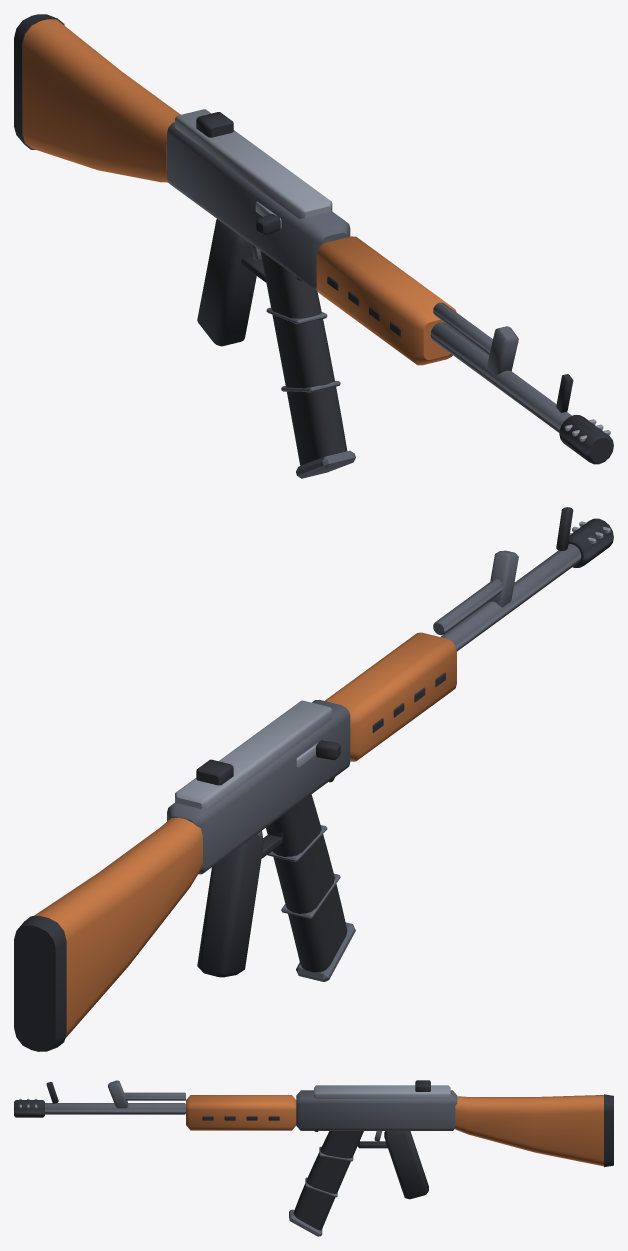
The model's file is fusil.glb.
3 renders of one model, top to bottom at view 1: azimuth 30°, elevation 25°; view 2: azimuth 150°, elevation 25°; view 3: azimuth 270°, elevation 25°, orthographic. The views are drawn at different scales.
Visible parts, largest first — view 1: corps, chargeur; view 2: corps, chargeur; view 3: corps, chargeur.
Part boxes in pixels (x1,y1,x2,y2): corps: (14, 14, 613, 464); chargeur: (260, 250, 355, 478); corps: (14, 507, 613, 1051); chargeur: (266, 794, 355, 981); corps: (14, 1080, 613, 1199); chargeur: (289, 1131, 363, 1236).
Bounding box in the file's own units: 0.0655 × 0.2815 × 1.01.
